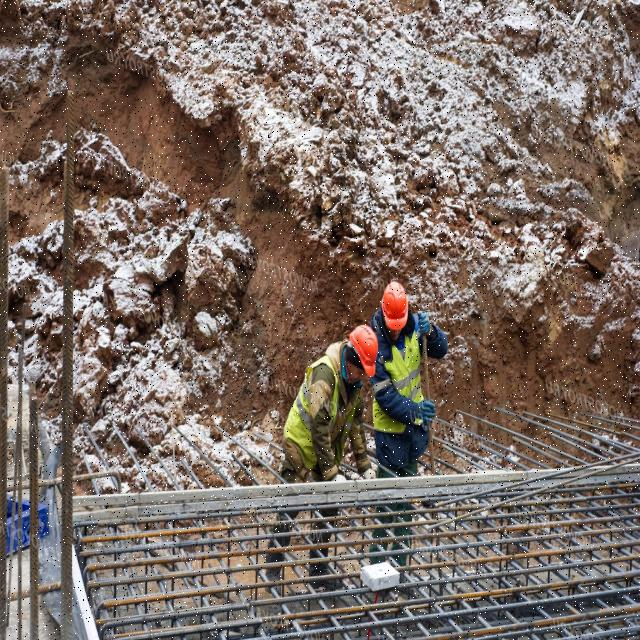Helmet: (351, 326, 379, 381), (382, 284, 412, 334)
Jacket: (299, 354, 353, 454), (380, 335, 428, 432)
